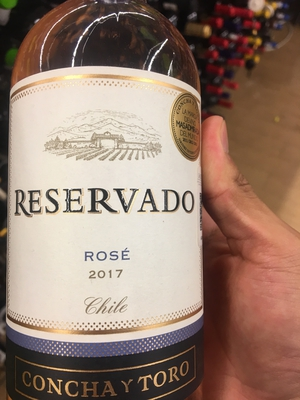reservado rose: (6, 35, 203, 400)
